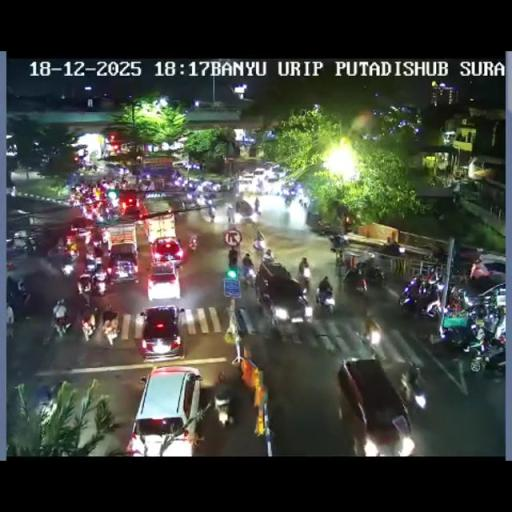Car: (338, 358, 414, 452), (124, 365, 202, 454), (254, 258, 309, 332), (136, 305, 184, 360), (466, 279, 506, 312), (107, 242, 139, 283), (150, 236, 185, 268), (118, 190, 142, 217), (69, 216, 97, 239), (251, 168, 267, 188), (238, 172, 254, 192), (266, 169, 280, 182)
Motorcycle: (399, 274, 444, 318), (437, 306, 479, 349), (465, 330, 504, 373), (400, 362, 426, 408), (342, 267, 368, 298), (214, 390, 234, 426), (101, 309, 121, 344), (34, 382, 56, 412), (482, 306, 503, 336), (362, 262, 385, 288), (447, 286, 469, 312), (363, 316, 382, 346), (52, 308, 71, 337), (80, 309, 96, 340), (316, 288, 334, 314), (91, 270, 108, 296), (60, 252, 77, 278), (296, 290, 310, 320), (298, 257, 311, 285), (329, 232, 349, 250), (241, 265, 256, 288), (384, 241, 406, 256), (79, 286, 91, 311), (102, 202, 118, 220), (334, 255, 346, 278), (65, 236, 78, 257), (315, 218, 332, 234), (6, 304, 14, 338), (17, 279, 28, 302), (252, 236, 266, 254), (173, 174, 189, 189), (24, 238, 38, 255), (82, 205, 96, 221), (219, 178, 235, 192), (262, 248, 275, 264), (194, 192, 208, 206), (342, 216, 353, 233), (56, 236, 66, 254), (228, 249, 238, 266), (205, 195, 214, 211), (186, 188, 196, 202), (250, 208, 260, 222), (188, 237, 198, 251), (226, 207, 234, 224), (284, 193, 294, 206), (298, 196, 308, 209), (206, 209, 216, 222), (94, 253, 102, 269), (210, 182, 220, 192), (141, 179, 149, 191)
